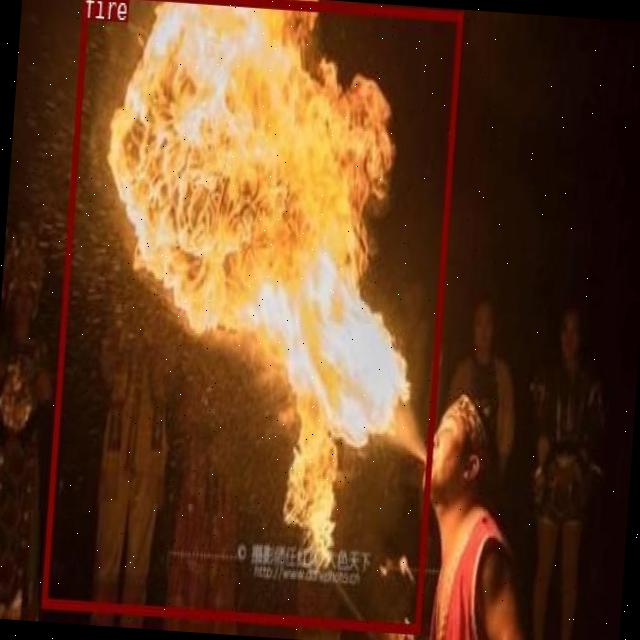fire: (40, 0, 462, 631)
